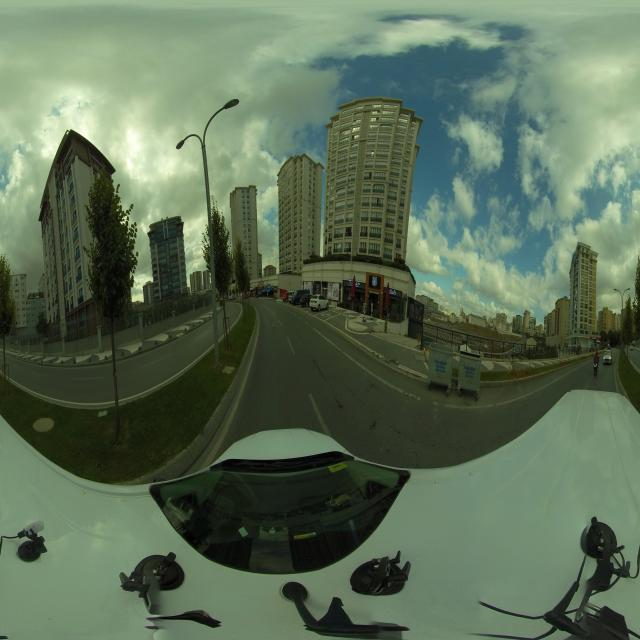SignStore: (592, 336, 596, 339)
